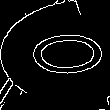O_E: (6, 29, 104, 81)
